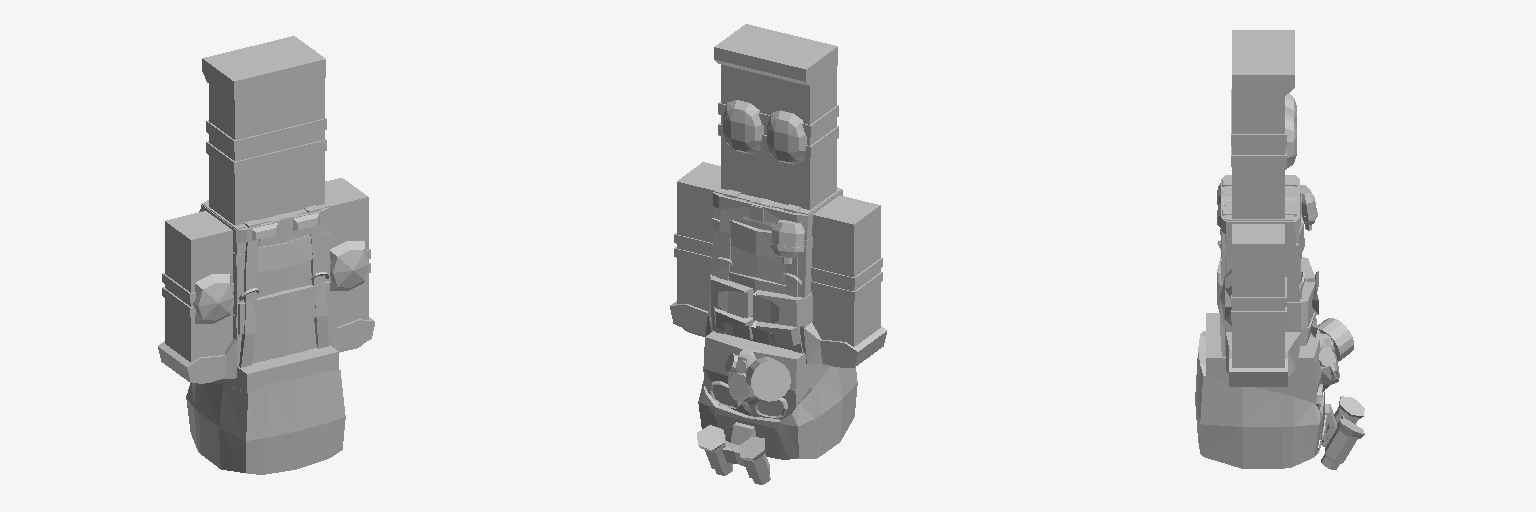
File: stalker.ps39m.obj
3 views of the same model, side by side, from view 1: azimuth 30°, elevation 25°; view 2: azimuth 150°, elevation 25°; view 3: azimuth 270°, elevation 25° (orthographic).
Parts seen in each view (by area): view 1: headModel, bodyModel, rightLegModel, rightArmModel, leftLegModel, leftArmModel; view 2: headModel, bodyModel, rightLegModel, rightArmModel, leftLegModel, leftArmModel; view 3: headModel, leftLegModel, leftArmModel, bodyModel, rightLegModel.
Part boxes in pixels (x1,y1,x2,y2): headModel: (186,345,345,474); bodyModel: (198,200,365,383); rightLegModel: (202,47,282,225); rightArmModel: (158,211,233,382); leftLegModel: (250,36,326,213); leftArmModel: (325,178,374,349); headModel: (697,331,857,484); bodyModel: (683,187,842,367); rightLegModel: (758,35,838,209); rightArmModel: (811,195,887,367); leftLegModel: (714,24,792,198); leftArmModel: (670,162,720,333); headModel: (1195,313,1364,469); leftLegModel: (1231,54,1296,218); leftArmModel: (1220,224,1287,386); bodyModel: (1217,175,1318,376); rightLegModel: (1231,30,1296,125).
Bounding box in the file's own units: 17.35 × 35.77 × 13.55.